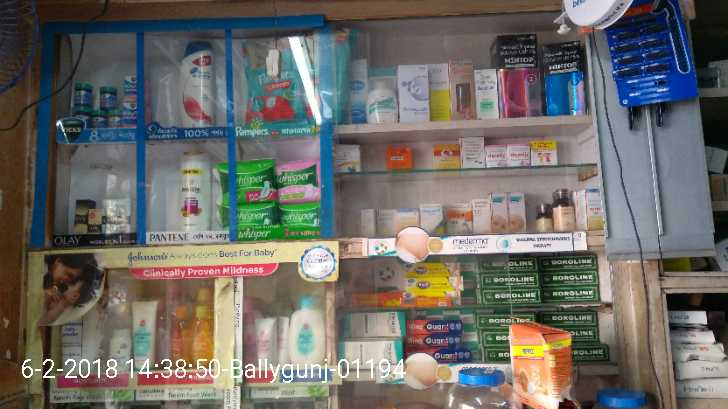vicks: (72, 73, 141, 130)
